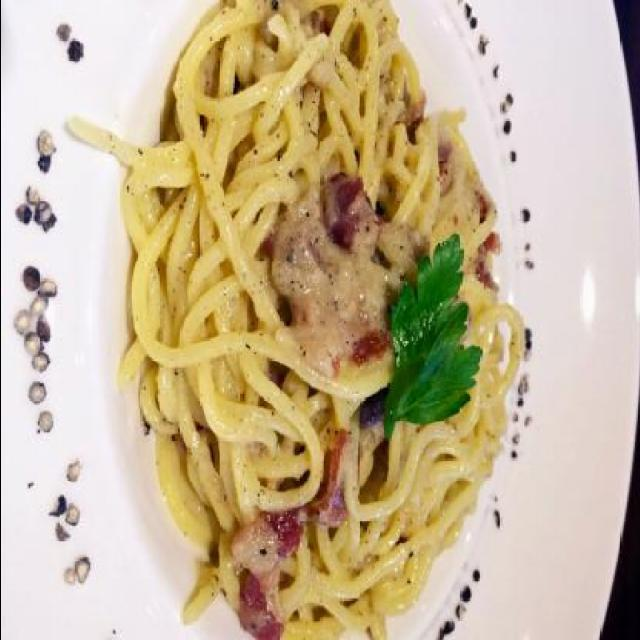Pasta with carbonara sauce: (104, 17, 521, 640)
